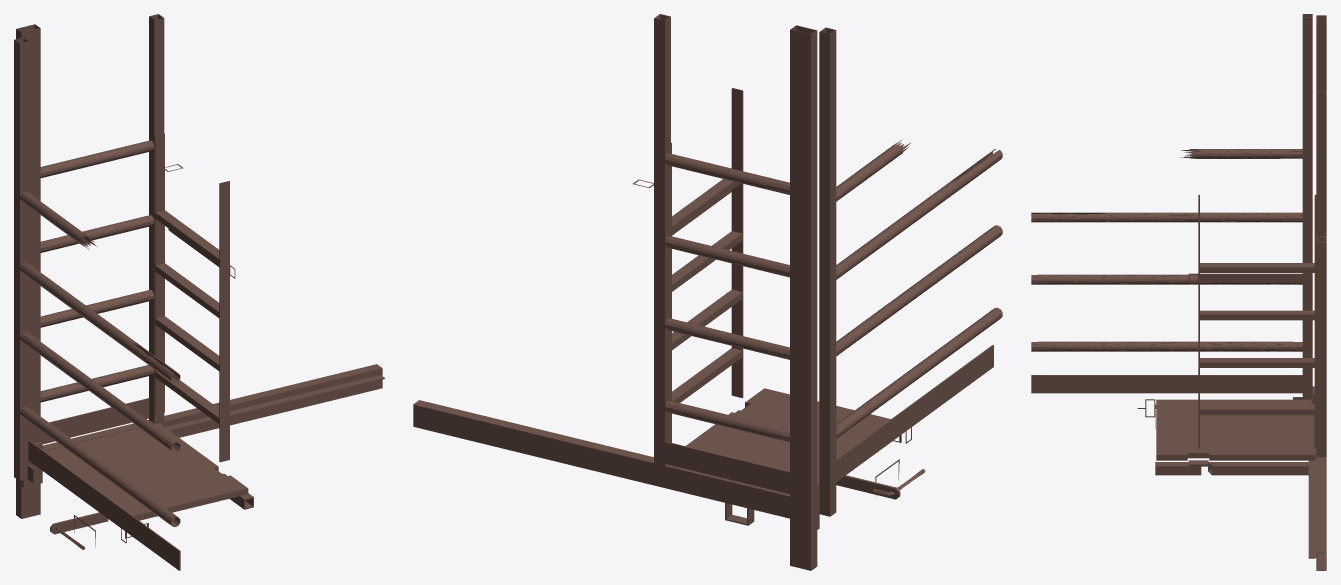
Rendered from GCC-AAV-13220-30.nwd(177).fbx.
3 views of the same model, side by side, from view 1: azimuth 30°, elevation 25°; view 2: azimuth 150°, elevation 25°; view 3: azimuth 270°, elevation 25° (orthographic). The views are drawn at different scales.
Visible parts, largest first — view 1: EXTRUSION 8 of EQUIPMENT /725-X-510, POHEDRON 1 of SUBEQUIPMENT 370 of EQUIPMENT /725-X-510, POHEDRON 1 of SUBEQUIPMENT 759 of EQUIPMENT /725-X-510, POHEDRON 1 of SUBEQUIPMENT 1015 of EQUIPMENT /725-X-510, POHEDRON 1 of SUBEQUIPMENT 904 of EQUIPMENT /725-X-510, POHEDRON 1 of SUBEQUIPMENT 371 of EQUIPMENT /725-X-510, BOX 28 of EQUIPMENT /725-X-510, POHEDRON 1 of SUBEQUIPMENT 927 of EQUIPMENT /725-X-510, POHEDRON 1 of SUBEQUIPMENT 919 of EQUIPMENT /725-X-510, POHEDRON 1 of SUBEQUIPMENT 915 of EQUIPMENT /725-X-510, POHEDRON 1 of SUBEQUIPMENT 913 of EQUIPMENT /725-X-510, POHEDRON 1 of SUBEQUIPMENT 917 of EQUIPMENT /725-X-510 (+13 smaller); view 2: POHEDRON 1 of SUBEQUIPMENT 370 of EQUIPMENT /725-X-510, POHEDRON 1 of SUBEQUIPMENT 371 of EQUIPMENT /725-X-510, EXTRUSION 8 of EQUIPMENT /725-X-510, POHEDRON 1 of SUBEQUIPMENT 1015 of EQUIPMENT /725-X-510, POHEDRON 1 of SUBEQUIPMENT 904 of EQUIPMENT /725-X-510, POHEDRON 1 of SUBEQUIPMENT 754 of EQUIPMENT /725-X-510, POHEDRON 1 of SUBEQUIPMENT 831 of EQUIPMENT /725-X-510, BOX 28 of EQUIPMENT /725-X-510, POHEDRON 1 of SUBEQUIPMENT 927 of EQUIPMENT /725-X-510, BOX 27 of EQUIPMENT /725-X-510, POHEDRON 1 of SUBEQUIPMENT 913 of EQUIPMENT /725-X-510, POHEDRON 1 of SUBEQUIPMENT 915 of EQUIPMENT /725-X-510 (+12 smaller); view 3: EXTRUSION 8 of EQUIPMENT /725-X-510, BOX 28 of EQUIPMENT /725-X-510, POHEDRON 1 of SUBEQUIPMENT 371 of EQUIPMENT /725-X-510, POHEDRON 1 of SUBEQUIPMENT 917 of EQUIPMENT /725-X-510, POHEDRON 1 of SUBEQUIPMENT 915 of EQUIPMENT /725-X-510, POHEDRON 1 of SUBEQUIPMENT 1015 of EQUIPMENT /725-X-510, POHEDRON 1 of SUBEQUIPMENT 913 of EQUIPMENT /725-X-510, POHEDRON 1 of SUBEQUIPMENT 904 of EQUIPMENT /725-X-510, POHEDRON 1 of SUBEQUIPMENT 905 of EQUIPMENT /725-X-510, POHEDRON 1 of SUBEQUIPMENT 1157 of EQUIPMENT /725-X-510, POHEDRON 1 of SUBEQUIPMENT 1241 of EQUIPMENT /725-X-510, POHEDRON 1 of SUBEQUIPMENT 1022 of EQUIPMENT /725-X-510 (+10 smaller).
Boxes of the visible parts, x1,y1,x2,y2 form: EXTRUSION 8 of EQUIPMENT /725-X-510: (45, 423, 248, 520); POHEDRON 1 of SUBEQUIPMENT 370 of EQUIPMENT /725-X-510: (16, 24, 40, 516); POHEDRON 1 of SUBEQUIPMENT 759 of EQUIPMENT /725-X-510: (44, 364, 382, 451); POHEDRON 1 of SUBEQUIPMENT 1015 of EQUIPMENT /725-X-510: (14, 37, 29, 476); POHEDRON 1 of SUBEQUIPMENT 904 of EQUIPMENT /725-X-510: (14, 44, 28, 481); POHEDRON 1 of SUBEQUIPMENT 371 of EQUIPMENT /725-X-510: (149, 14, 164, 423); BOX 28 of EQUIPMENT /725-X-510: (28, 440, 180, 570); POHEDRON 1 of SUBEQUIPMENT 927 of EQUIPMENT /725-X-510: (219, 181, 229, 462); POHEDRON 1 of SUBEQUIPMENT 919 of EQUIPMENT /725-X-510: (154, 133, 164, 414); POHEDRON 1 of SUBEQUIPMENT 915 of EQUIPMENT /725-X-510: (20, 406, 180, 526); POHEDRON 1 of SUBEQUIPMENT 913 of EQUIPMENT /725-X-510: (20, 331, 180, 452); POHEDRON 1 of SUBEQUIPMENT 917 of EQUIPMENT /725-X-510: (20, 262, 180, 382); POHEDRON 1 of SUBEQUIPMENT 370 of EQUIPMENT /725-X-510: (790, 25, 817, 568); POHEDRON 1 of SUBEQUIPMENT 371 of EQUIPMENT /725-X-510: (654, 14, 670, 465); EXTRUSION 8 of EQUIPMENT /725-X-510: (685, 388, 890, 484); POHEDRON 1 of SUBEQUIPMENT 1015 of EQUIPMENT /725-X-510: (819, 27, 836, 516); POHEDRON 1 of SUBEQUIPMENT 904 of EQUIPMENT /725-X-510: (819, 32, 836, 516); POHEDRON 1 of SUBEQUIPMENT 754 of EQUIPMENT /725-X-510: (415, 427, 790, 518); POHEDRON 1 of SUBEQUIPMENT 831 of EQUIPMENT /725-X-510: (413, 404, 789, 496); BOX 28 of EQUIPMENT /725-X-510: (836, 345, 993, 481); POHEDRON 1 of SUBEQUIPMENT 927 of EQUIPMENT /725-X-510: (731, 88, 743, 397); BOX 27 of EQUIPMENT /725-X-510: (664, 441, 790, 494); POHEDRON 1 of SUBEQUIPMENT 913 of EQUIPMENT /725-X-510: (836, 225, 1002, 356); POHEDRON 1 of SUBEQUIPMENT 915 of EQUIPMENT /725-X-510: (836, 307, 1002, 438); EXTRUSION 8 of EQUIPMENT /725-X-510: (1156, 399, 1315, 460); BOX 28 of EQUIPMENT /725-X-510: (1031, 375, 1302, 393); POHEDRON 1 of SUBEQUIPMENT 371 of EQUIPMENT /725-X-510: (1316, 91, 1326, 457); POHEDRON 1 of SUBEQUIPMENT 917 of EQUIPMENT /725-X-510: (1031, 212, 1302, 222); POHEDRON 1 of SUBEQUIPMENT 915 of EQUIPMENT /725-X-510: (1031, 341, 1302, 351); POHEDRON 1 of SUBEQUIPMENT 1015 of EQUIPMENT /725-X-510: (1302, 14, 1312, 399); POHEDRON 1 of SUBEQUIPMENT 913 of EQUIPMENT /725-X-510: (1031, 274, 1302, 284); POHEDRON 1 of SUBEQUIPMENT 904 of EQUIPMENT /725-X-510: (1303, 23, 1312, 403); POHEDRON 1 of SUBEQUIPMENT 905 of EQUIPMENT /725-X-510: (1208, 462, 1308, 475); POHEDRON 1 of SUBEQUIPMENT 1157 of EQUIPMENT /725-X-510: (1199, 405, 1314, 415); POHEDRON 1 of SUBEQUIPMENT 1241 of EQUIPMENT /725-X-510: (1199, 310, 1314, 320); POHEDRON 1 of SUBEQUIPMENT 1022 of EQUIPMENT /725-X-510: (1180, 149, 1302, 158).
Size of the model in its own units: 79.53 by 96.3 by 59.09.
